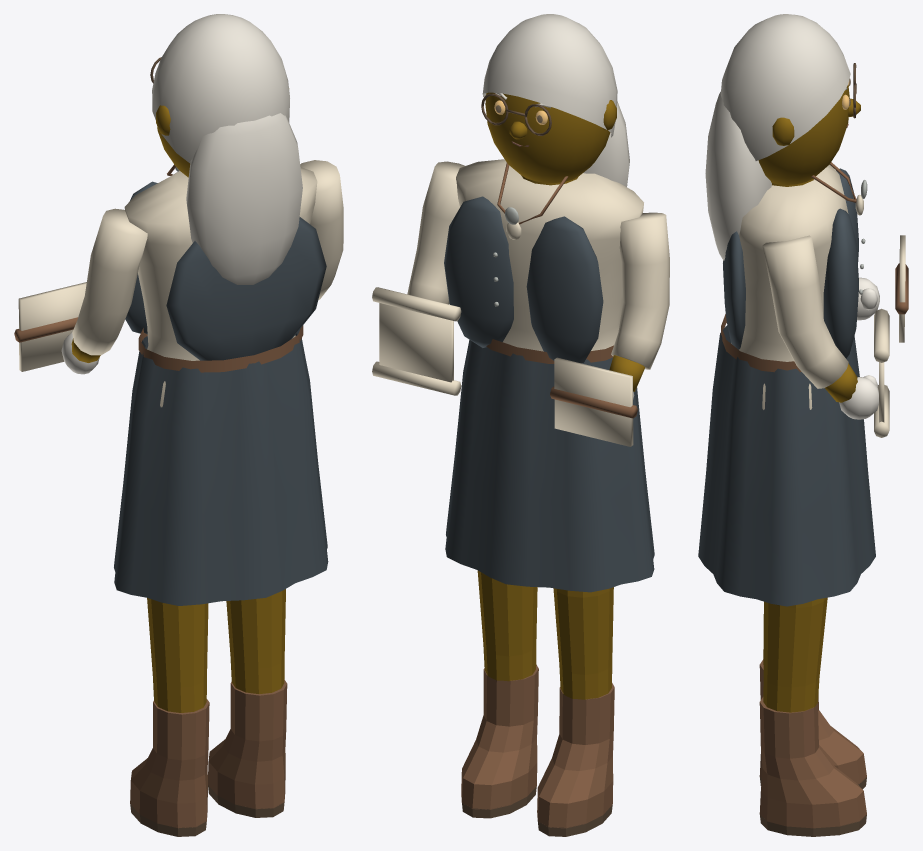
Rendered from SM_NPC_VULCANIA.glb.
The picture shows the model from 3 angles, left to right: view 1: azimuth 30°, elevation 25°; view 2: azimuth 150°, elevation 25°; view 3: azimuth 270°, elevation 25°; orthographic projection. The views are drawn at different scales.
Parts seen in each view (by area): view 1: SM_NPC_VULCANIA_BODY, SM_NPC_VULCANIA_HAIR, SM_NPC_VULCANIA_LEG_L, SM_NPC_VULCANIA_LEG_R, SM_NPC_VULCANIA_ARM_L, SM_NPC_VULCANIA_ARM_R, SM_NPC_VULCANIA_HEAD; view 2: SM_NPC_VULCANIA_BODY, SM_NPC_VULCANIA_LEG_L, SM_NPC_VULCANIA_LEG_R, SM_NPC_VULCANIA_ARM_L, SM_NPC_VULCANIA_HAIR, SM_NPC_VULCANIA_ARM_R, SM_NPC_VULCANIA_HEAD; view 3: SM_NPC_VULCANIA_BODY, SM_NPC_VULCANIA_HAIR, SM_NPC_VULCANIA_LEG_R, SM_NPC_VULCANIA_ARM_R, SM_NPC_VULCANIA_HEAD, SM_NPC_VULCANIA_LEG_L, SM_NPC_VULCANIA_ARM_L.
Boxes of the visible parts, bbox=[...] form: SM_NPC_VULCANIA_BODY: bbox=[114, 164, 328, 605]; SM_NPC_VULCANIA_HAIR: bbox=[152, 14, 302, 284]; SM_NPC_VULCANIA_LEG_L: bbox=[130, 598, 209, 836]; SM_NPC_VULCANIA_LEG_R: bbox=[208, 589, 287, 817]; SM_NPC_VULCANIA_ARM_L: bbox=[14, 208, 147, 374]; SM_NPC_VULCANIA_ARM_R: bbox=[300, 160, 343, 299]; SM_NPC_VULCANIA_HEAD: bbox=[150, 57, 289, 177]; SM_NPC_VULCANIA_BODY: bbox=[444, 159, 654, 592]; SM_NPC_VULCANIA_LEG_L: bbox=[537, 587, 614, 836]; SM_NPC_VULCANIA_LEG_R: bbox=[461, 570, 538, 818]; SM_NPC_VULCANIA_ARM_L: bbox=[550, 212, 669, 446]; SM_NPC_VULCANIA_HAIR: bbox=[482, 14, 629, 186]; SM_NPC_VULCANIA_ARM_R: bbox=[372, 161, 464, 395]; SM_NPC_VULCANIA_HEAD: bbox=[481, 92, 616, 182]; SM_NPC_VULCANIA_BODY: bbox=[698, 162, 875, 606]; SM_NPC_VULCANIA_HAIR: bbox=[705, 14, 850, 260]; SM_NPC_VULCANIA_LEG_R: bbox=[759, 597, 866, 836]; SM_NPC_VULCANIA_ARM_R: bbox=[762, 235, 889, 437]; SM_NPC_VULCANIA_HEAD: bbox=[758, 63, 860, 184]; SM_NPC_VULCANIA_LEG_L: bbox=[759, 602, 866, 789]; SM_NPC_VULCANIA_ARM_L: bbox=[857, 235, 908, 342].
Size of the model in its own units: 0.6545 by 1.81 by 0.44.
